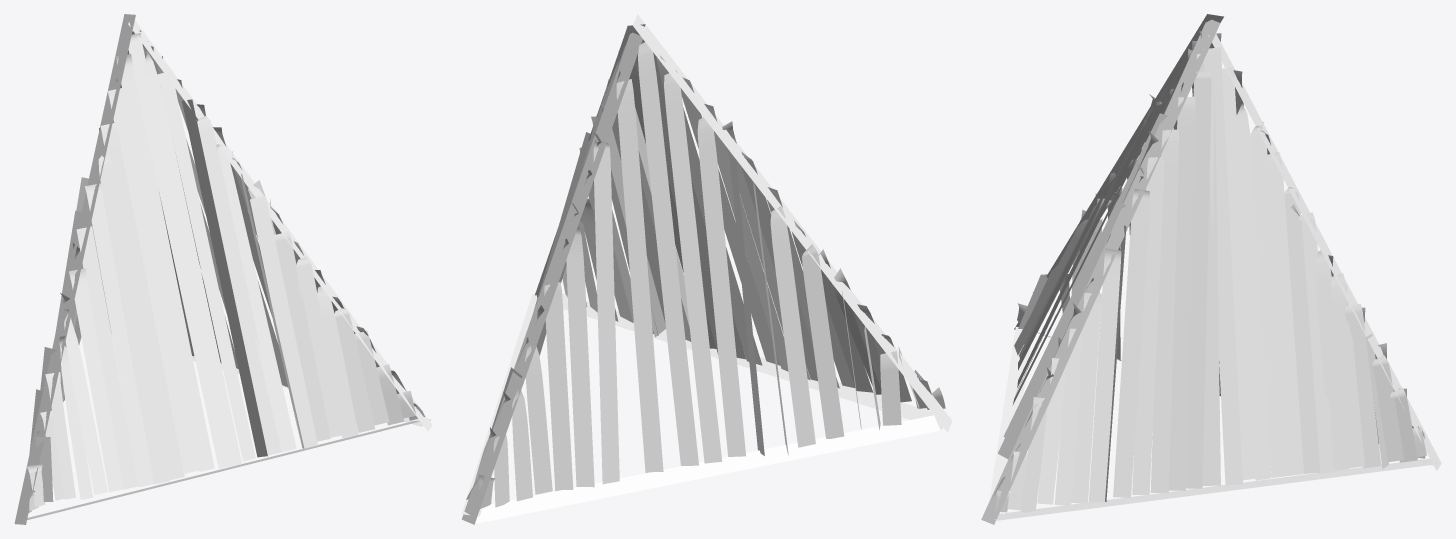
File: Triangle.fbx
The picture shows the model from 3 angles, left to right: view 1: azimuth 30°, elevation 25°; view 2: azimuth 150°, elevation 25°; view 3: azimuth 270°, elevation 25°; orthographic projection. The views are drawn at different scales.
Parts seen in each view (by area): view 1: DuctTape_geo; view 2: DuctTape_geo; view 3: DuctTape_geo.
Boxes of the visible parts, bbox=[...] form: DuctTape_geo: bbox=[14, 14, 432, 524]; DuctTape_geo: bbox=[461, 14, 952, 524]; DuctTape_geo: bbox=[981, 14, 1441, 524].
Size of the model in its own units: 2.24 by 2.16 by 2.09.
